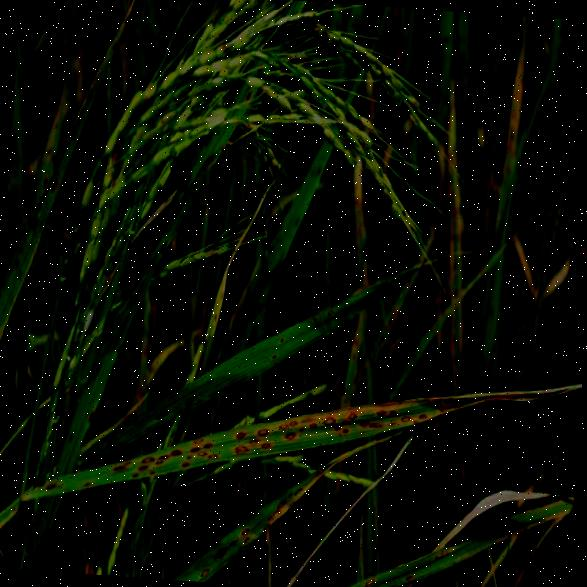Brown_Spot: (306, 296, 340, 324), (277, 416, 298, 438), (110, 454, 134, 471), (39, 472, 63, 488), (270, 246, 286, 270), (155, 229, 171, 252), (272, 494, 292, 512), (233, 527, 255, 543), (320, 407, 336, 427), (182, 389, 198, 408), (337, 417, 353, 436), (12, 256, 27, 276), (200, 150, 216, 168), (152, 404, 172, 418), (344, 404, 360, 421), (362, 415, 378, 432), (83, 404, 96, 424), (138, 450, 155, 464), (212, 543, 227, 558), (29, 211, 40, 231), (228, 426, 245, 438), (48, 170, 57, 190), (255, 422, 270, 434), (185, 441, 201, 452), (46, 141, 55, 160), (134, 537, 144, 554), (178, 456, 191, 468), (104, 432, 117, 444), (166, 445, 182, 454), (267, 348, 278, 360), (146, 461, 156, 474), (114, 332, 121, 350), (80, 474, 90, 486), (199, 436, 209, 448), (134, 555, 142, 570), (68, 124, 76, 138), (274, 335, 286, 344), (67, 426, 74, 440), (150, 484, 156, 496), (149, 518, 156, 528)
